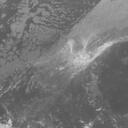cyclone: (41, 34, 94, 80)
